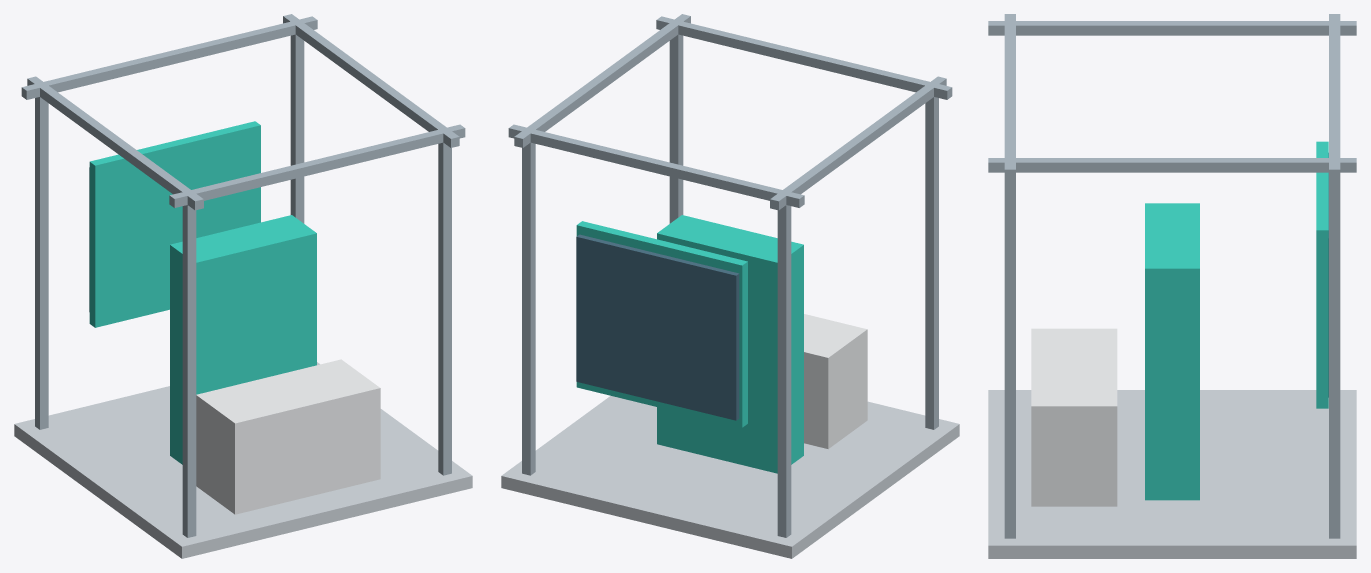
The picture shows the model from 3 angles, left to right: view 1: azimuth 30°, elevation 25°; view 2: azimuth 150°, elevation 25°; view 3: azimuth 270°, elevation 25°; orthographic projection. The views are drawn at different scales.
Visible parts, largest first — view 1: Exhibition Booth Concept; view 2: Exhibition Booth Concept; view 3: Exhibition Booth Concept.
Part boxes in pixels (x1=…): Exhibition Booth Concept: x1=14, y1=14, x2=472, y2=558; Exhibition Booth Concept: x1=501, y1=14, x2=959, y2=558; Exhibition Booth Concept: x1=988, y1=14, x2=1356, y2=558.
Bounding box in the file's own units: 3 × 3.49 × 3.
